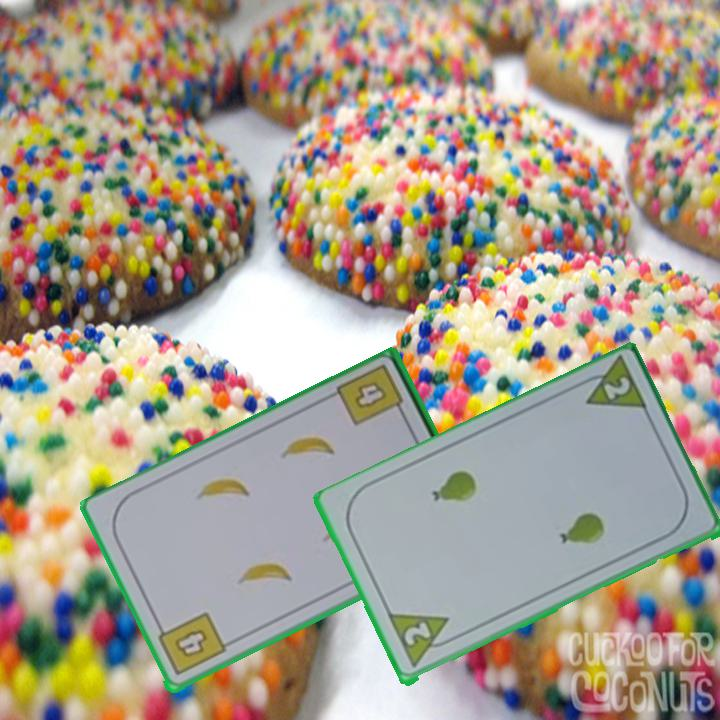2p: (572, 355, 651, 416), (399, 618, 434, 650)
4b: (153, 609, 228, 679), (350, 378, 390, 413)
